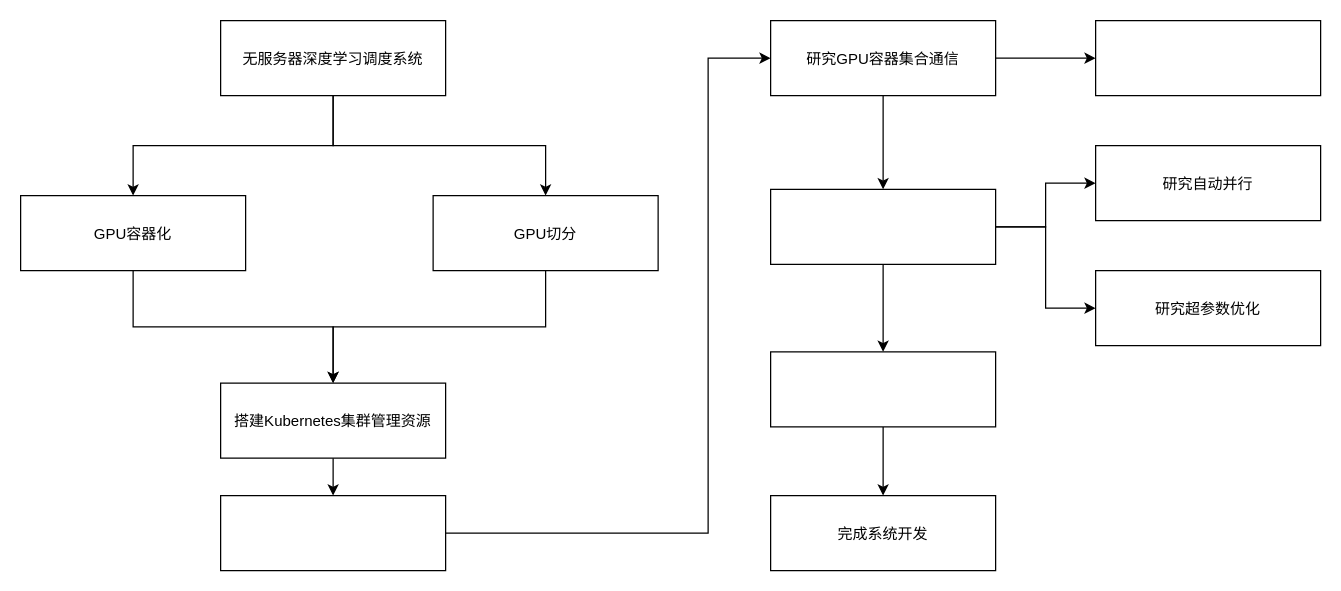
This 1341x591 diagram has some shape labels left out. Each missing label, with the centre of its shape:
"开发全局调度器" goes at point (882, 389).
"构建分布式深度学习作业集群" goes at point (332, 532).
"研究深度学习工作负载调度器" goes at point (882, 226).
"研究通信同步策略" goes at point (1207, 57).
